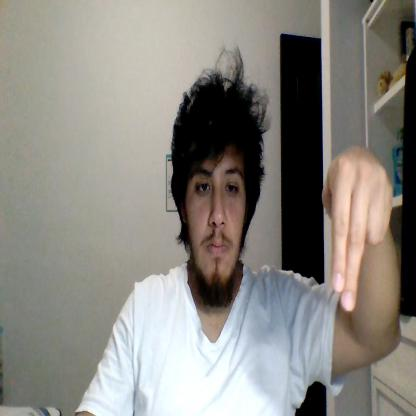N: (323, 146, 394, 312)
